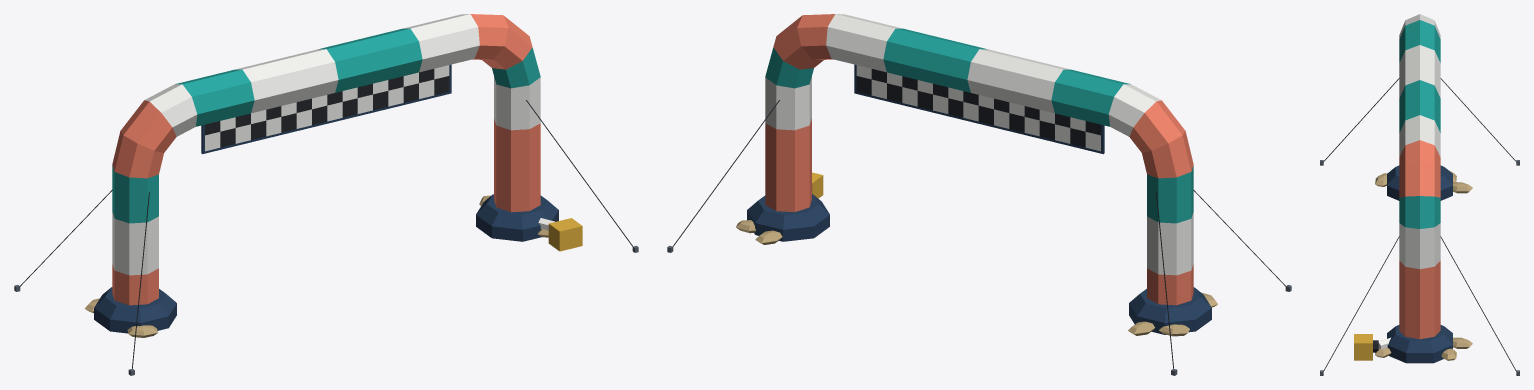
The model's file is checkpoint_arch.glb.
The picture shows the model from 3 angles, left to right: view 1: azimuth 30°, elevation 25°; view 2: azimuth 150°, elevation 25°; view 3: azimuth 270°, elevation 25°; orthographic projection. The views are drawn at different scales.
Visible parts, largest first — view 1: Arch; view 2: Arch; view 3: Arch.
Boxes of the visible parts, x1,y1,x2,y2 form: Arch: (14,14,638,375); Arch: (667,14,1291,375); Arch: (1320,14,1519,375).
Size of the model in its own units: 13.3 by 5.56 by 5.3.
